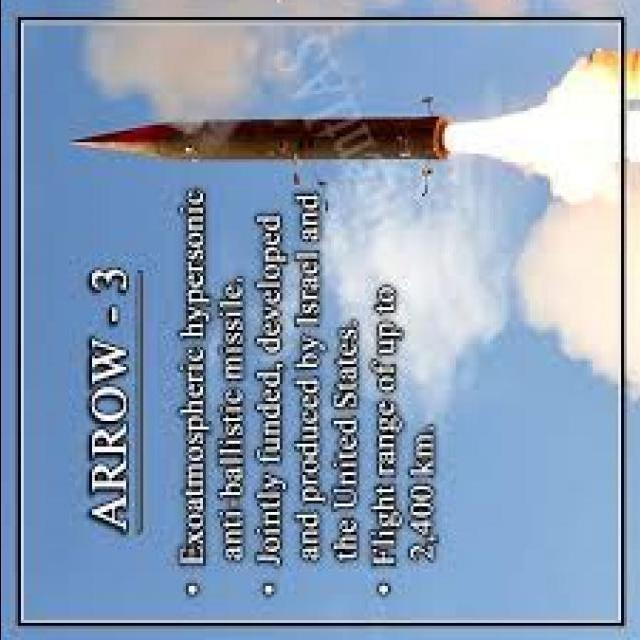missile: (48, 103, 484, 172)
